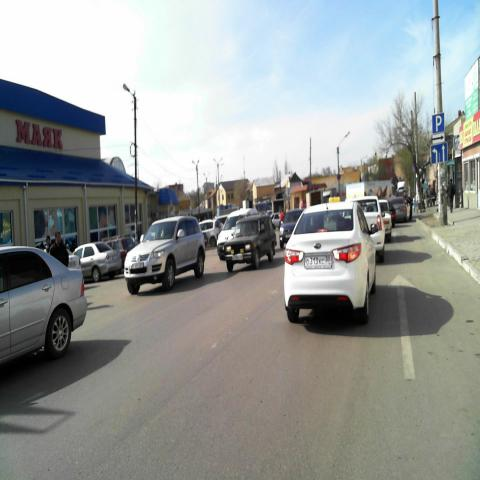8_3_1: (432, 133, 446, 143)
